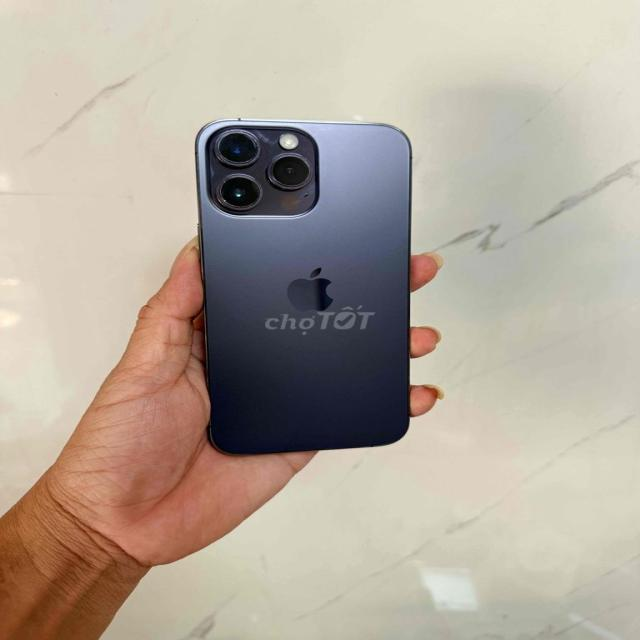gen_14: (181, 120, 433, 468)
